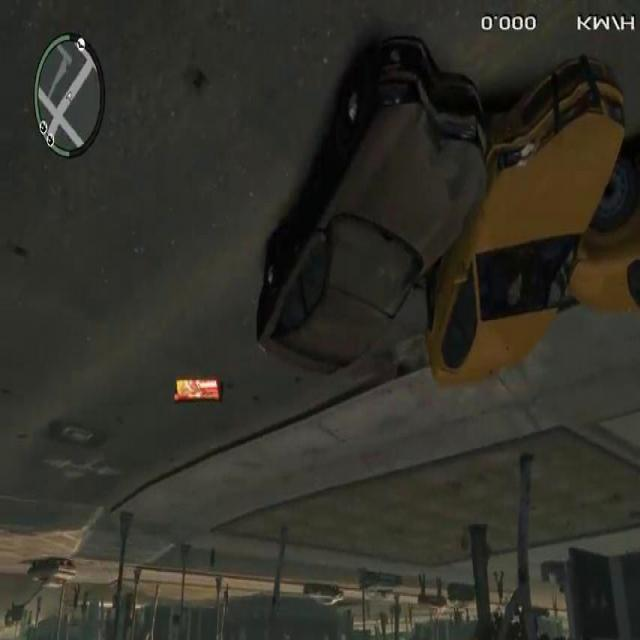moderate: (247, 48, 640, 404)
